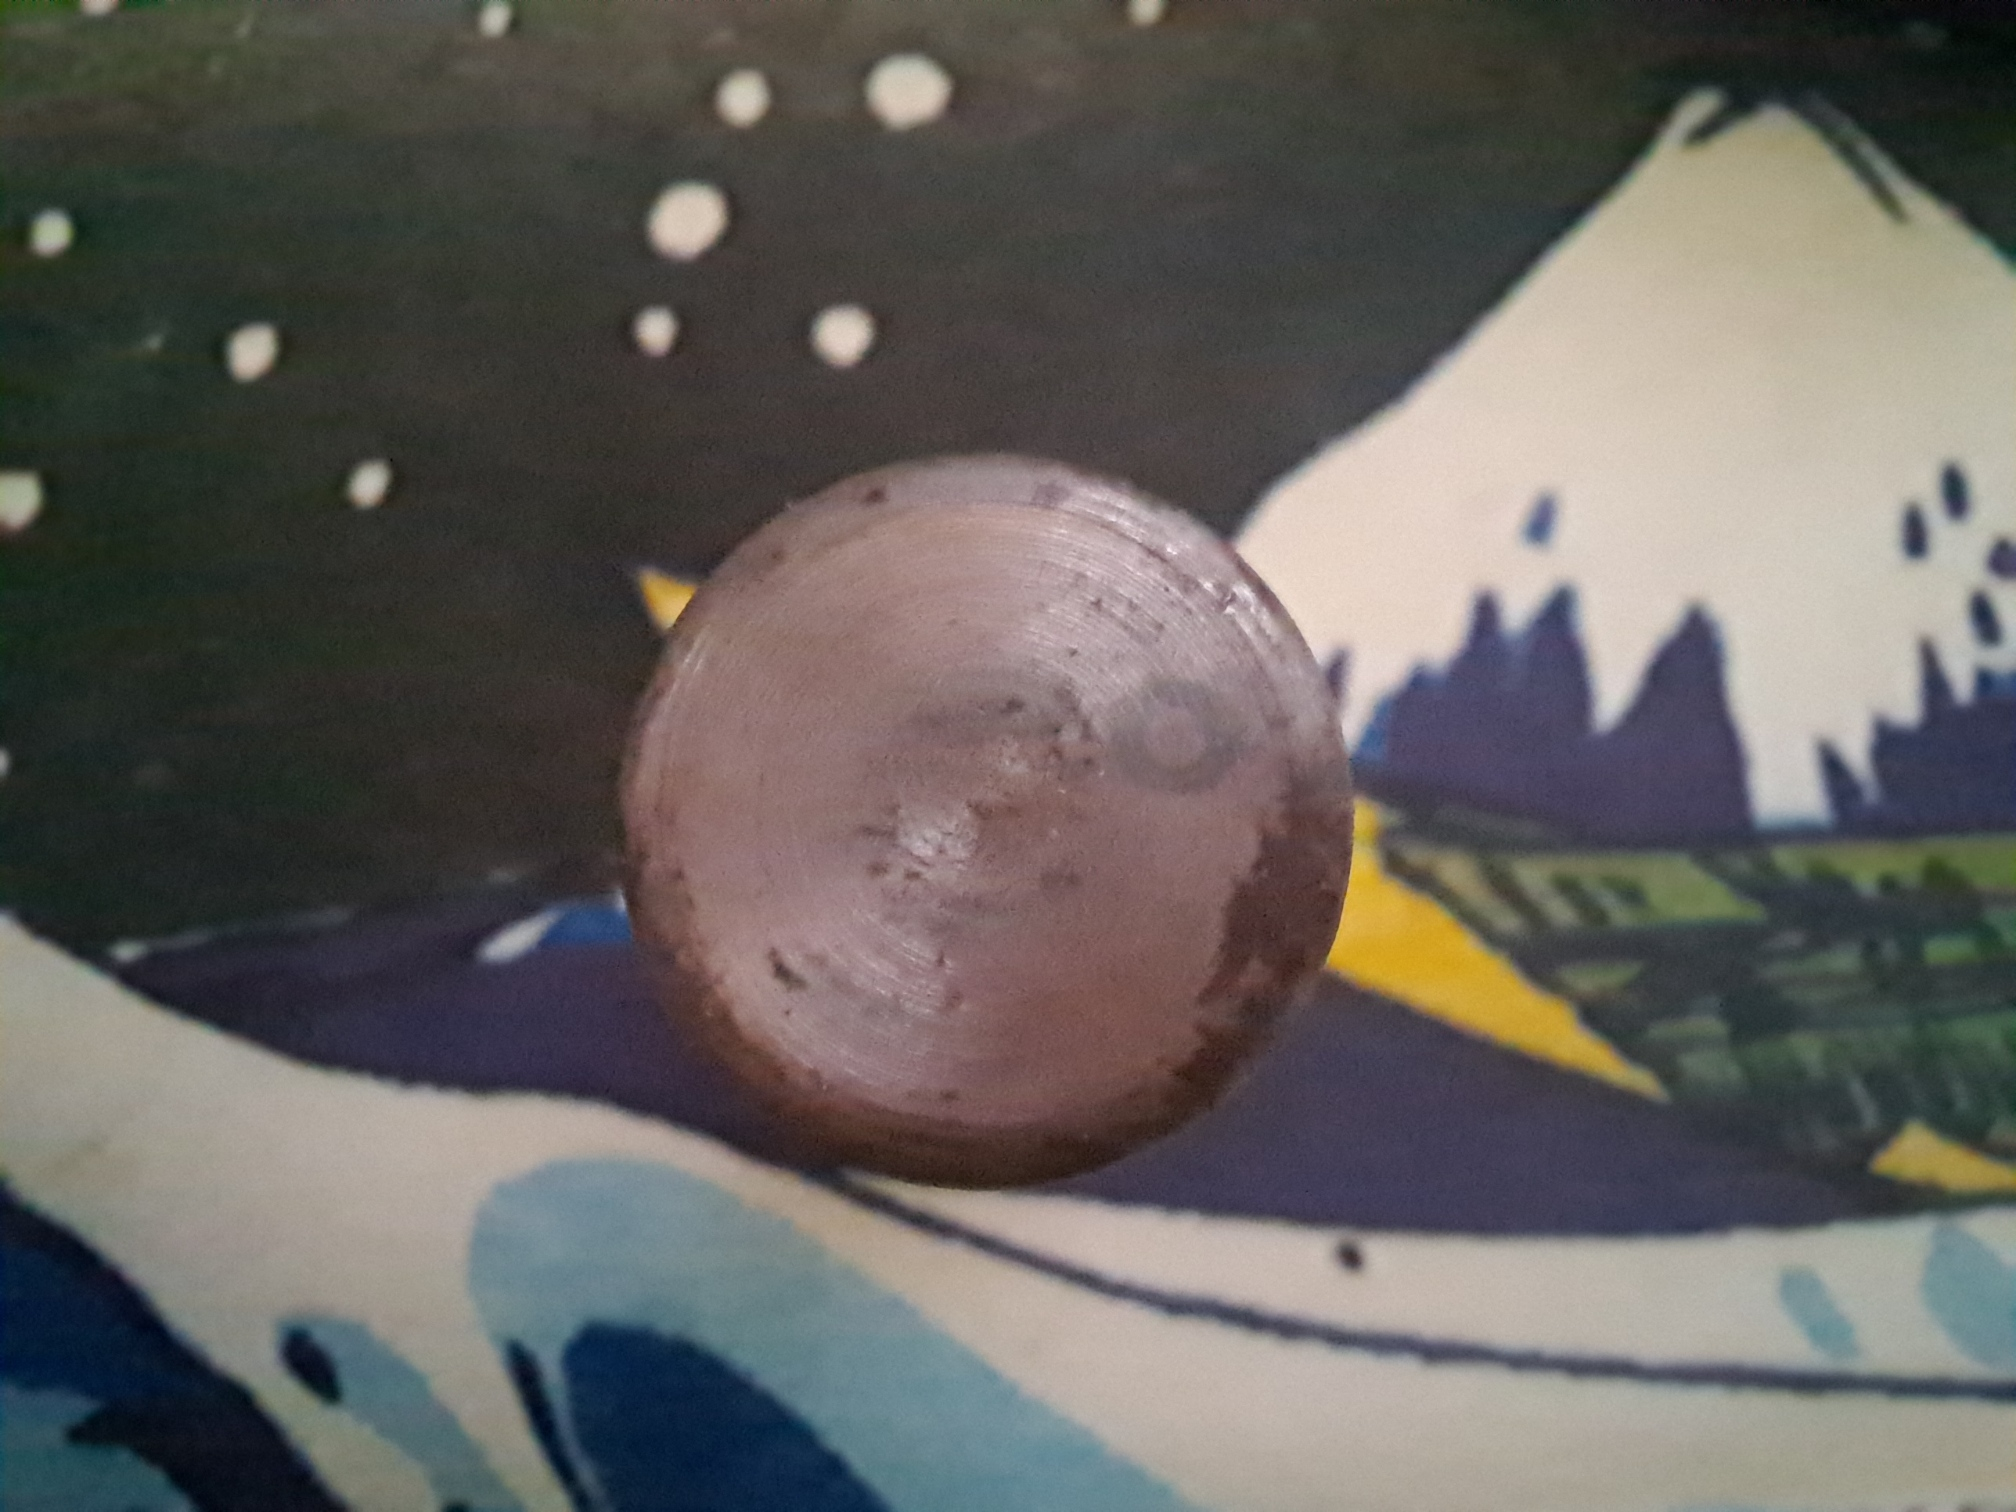плансон: (603, 446, 1365, 1190)
повреждение: (1116, 673, 1246, 793)
